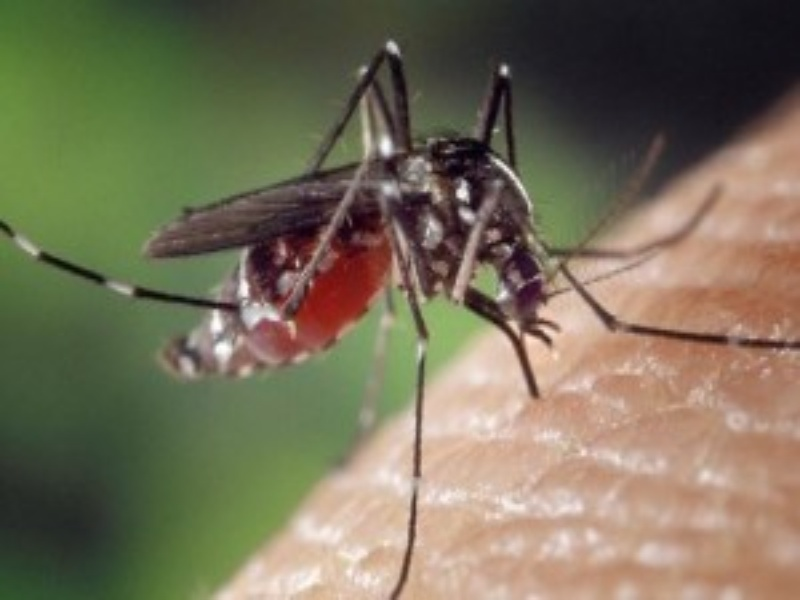dengue_mosquito: (153, 38, 600, 399)
